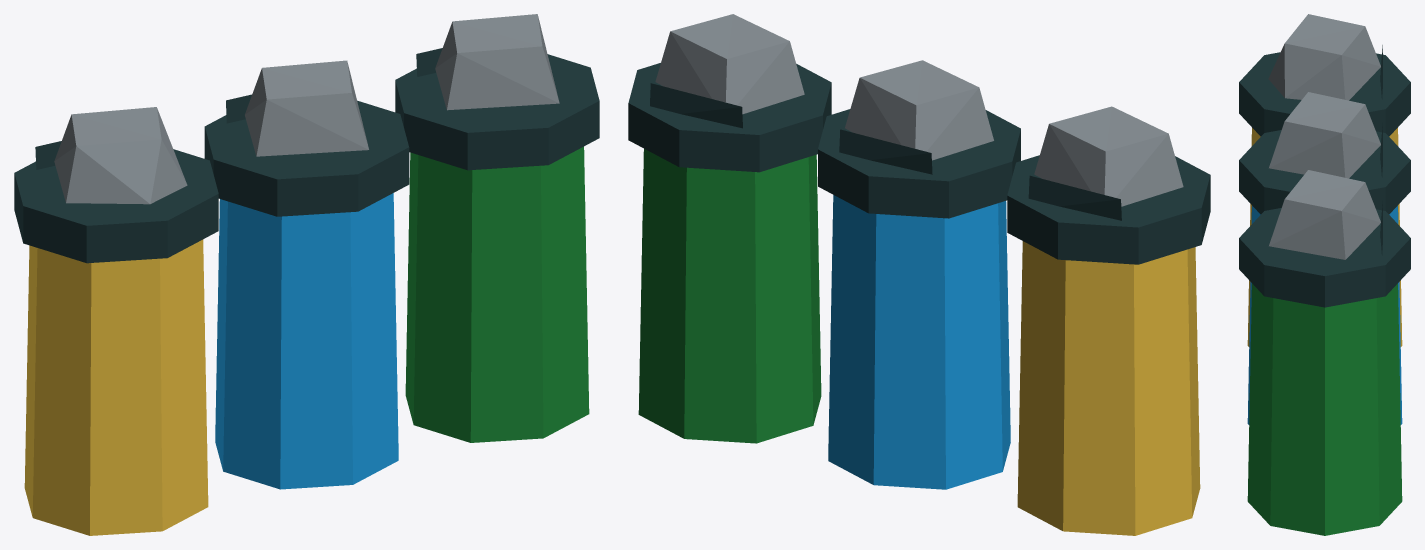
Rendered from recycling_bin_set.fbx.
The picture shows the model from 3 angles, left to right: view 1: azimuth 30°, elevation 25°; view 2: azimuth 150°, elevation 25°; view 3: azimuth 270°, elevation 25°; orthographic projection. The views are drawn at different scales.
Visible parts, largest first — view 1: recycling_bin_set; view 2: recycling_bin_set; view 3: recycling_bin_set.
Boxes of the visible parts, box(x1,y1,x2,y2) form: recycling_bin_set: box(14, 14, 599, 535); recycling_bin_set: box(628, 14, 1210, 535); recycling_bin_set: box(1239, 14, 1410, 535).
Bounding box in the file's own units: 1.6 × 1 × 0.5.
